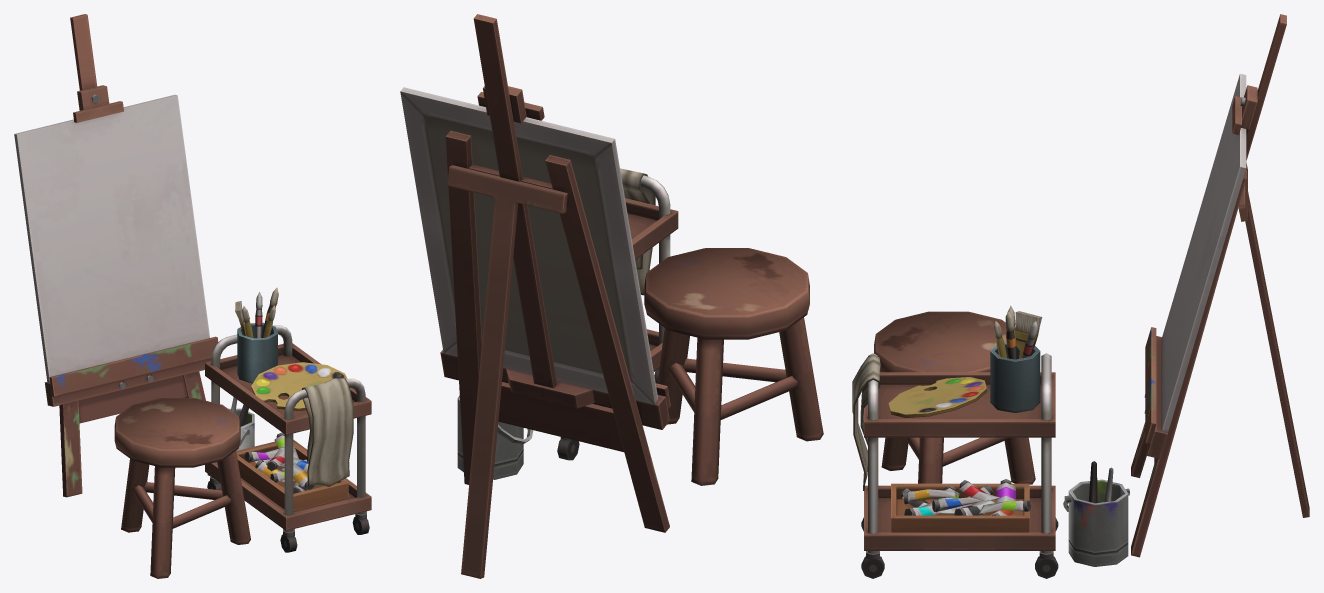
Rendered from my_wildhunt_01_easel_02.glb.
3 views of the same model, side by side, from view 1: azimuth 30°, elevation 25°; view 2: azimuth 150°, elevation 25°; view 3: azimuth 270°, elevation 25° (orthographic). The views are drawn at different scales.
Parts seen in each view (by area): view 1: my_wildhunt_01_easel_02; view 2: my_wildhunt_01_easel_02; view 3: my_wildhunt_01_easel_02.
Boxes of the visible parts, x1,y1,x2,y2 form: my_wildhunt_01_easel_02: (14,14,371,578); my_wildhunt_01_easel_02: (400,14,823,578); my_wildhunt_01_easel_02: (852,14,1309,578).
Bounding box in the file's own units: 0.00572 × 0.0107 × 0.00895.
Materials: 1 (1 with a texture image).
